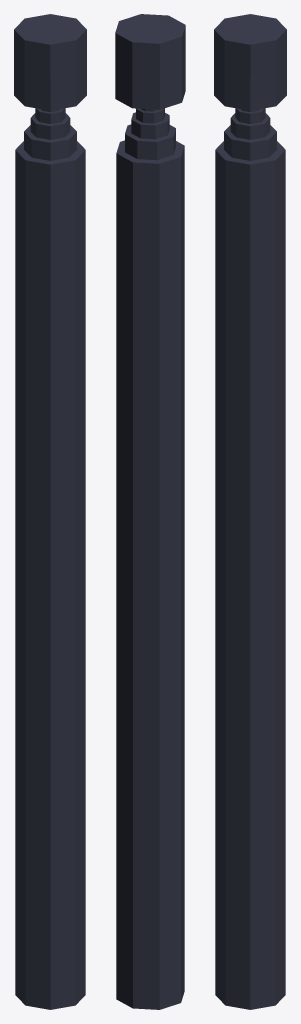
The model's file is Antenna.fbx.
3 renders of one model, left to right at view 1: azimuth 90°, elevation 25°; view 2: azimuth 150°, elevation 25°; view 3: azimuth 270°, elevation 25°, orthographic.
Parts seen in each view (by area): view 1: Cylinder.007; view 2: Cylinder.007; view 3: Cylinder.007.
Boxes of the visible parts, x1=… form: Cylinder.007: x1=14, y1=14, x2=86, y2=1009; Cylinder.007: x1=115, y1=14, x2=185, y2=1009; Cylinder.007: x1=214, y1=14, x2=286, y2=1009.
Bounding box in the file's own units: 15.63 × 228 × 15.63.
1 material, 1 textured.
